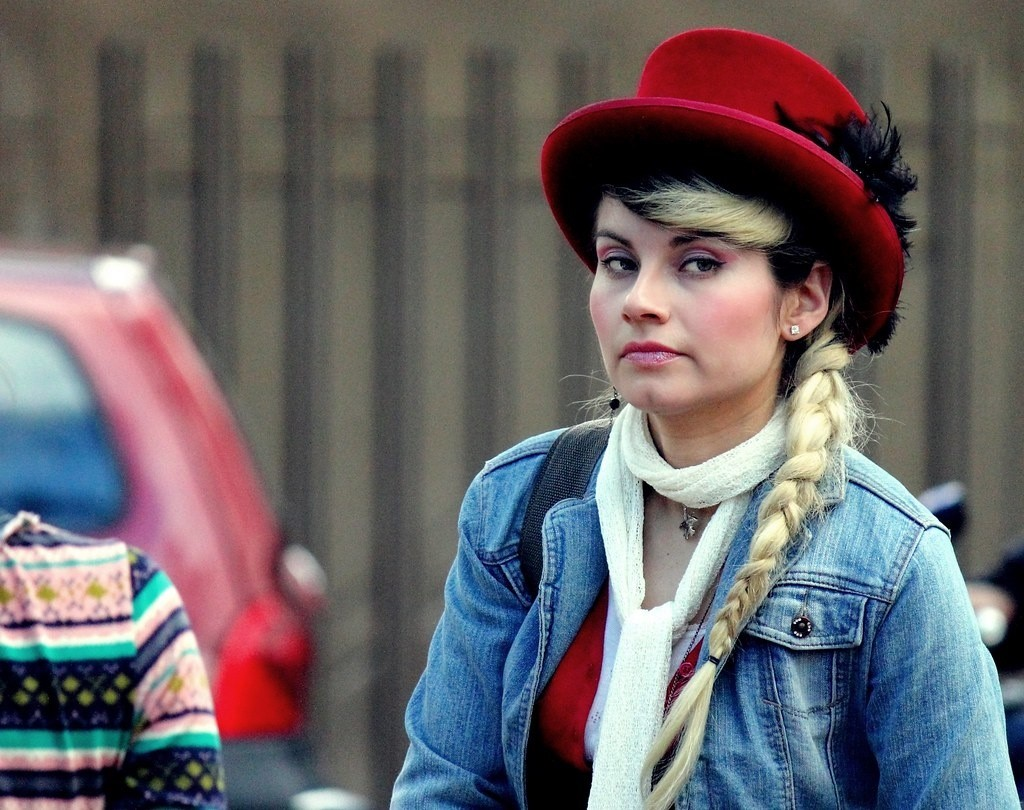face_no_mask: (587, 122, 811, 426)
